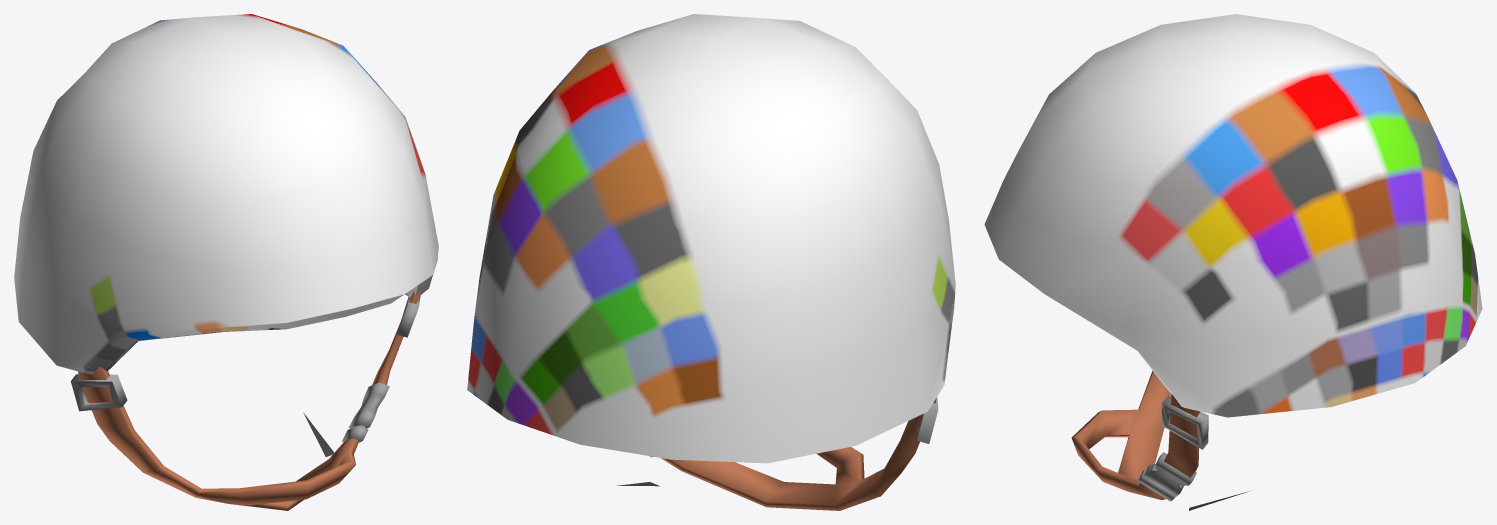
The model's file is overalls.005.fbx.
3 views of the same model, side by side, from view 1: azimuth 30°, elevation 25°; view 2: azimuth 150°, elevation 25°; view 3: azimuth 270°, elevation 25° (orthographic). The views are drawn at different scales.
Visible parts, largest first — view 1: overalls.005; view 2: overalls.005; view 3: overalls.005.
Part boxes in pixels (x1,y1,x2,y2): overalls.005: (14,14,438,510); overalls.005: (467,14,955,510); overalls.005: (984,14,1482,510).
Size of the model in its own units: 96.27 by 112 by 112.
